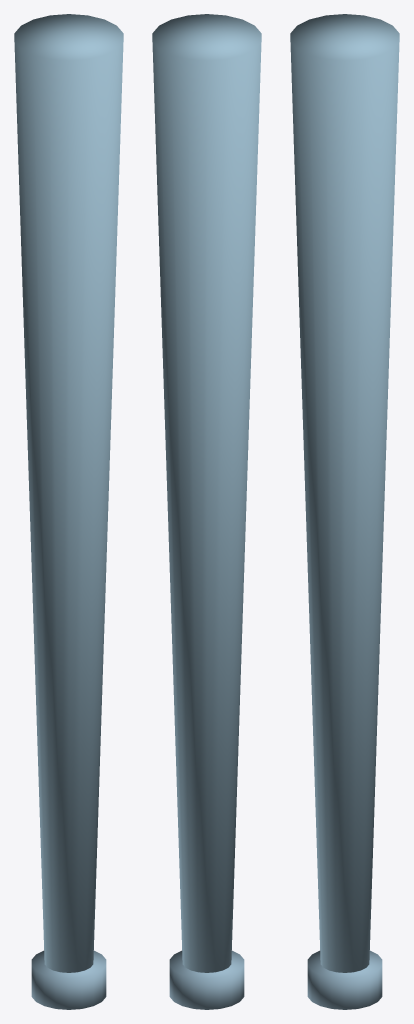
File: baseball_bat.glb
3 renders of one model, left to right at view 1: azimuth 90°, elevation 25°; view 2: azimuth 150°, elevation 25°; view 3: azimuth 270°, elevation 25°, orthographic.
Parts seen in each view (by area): view 1: bat, knob; view 2: bat, knob; view 3: bat, knob.
Boxes of the visible parts, x1,y1,x2,y2 form: bat: (14,14,123,972); knob: (31,950,106,1009); bat: (152,14,261,972); knob: (169,950,244,1009); bat: (290,14,399,972); knob: (307,950,382,1009).
Size of the model in its own units: 0.16 by 1.53 by 0.1576.
